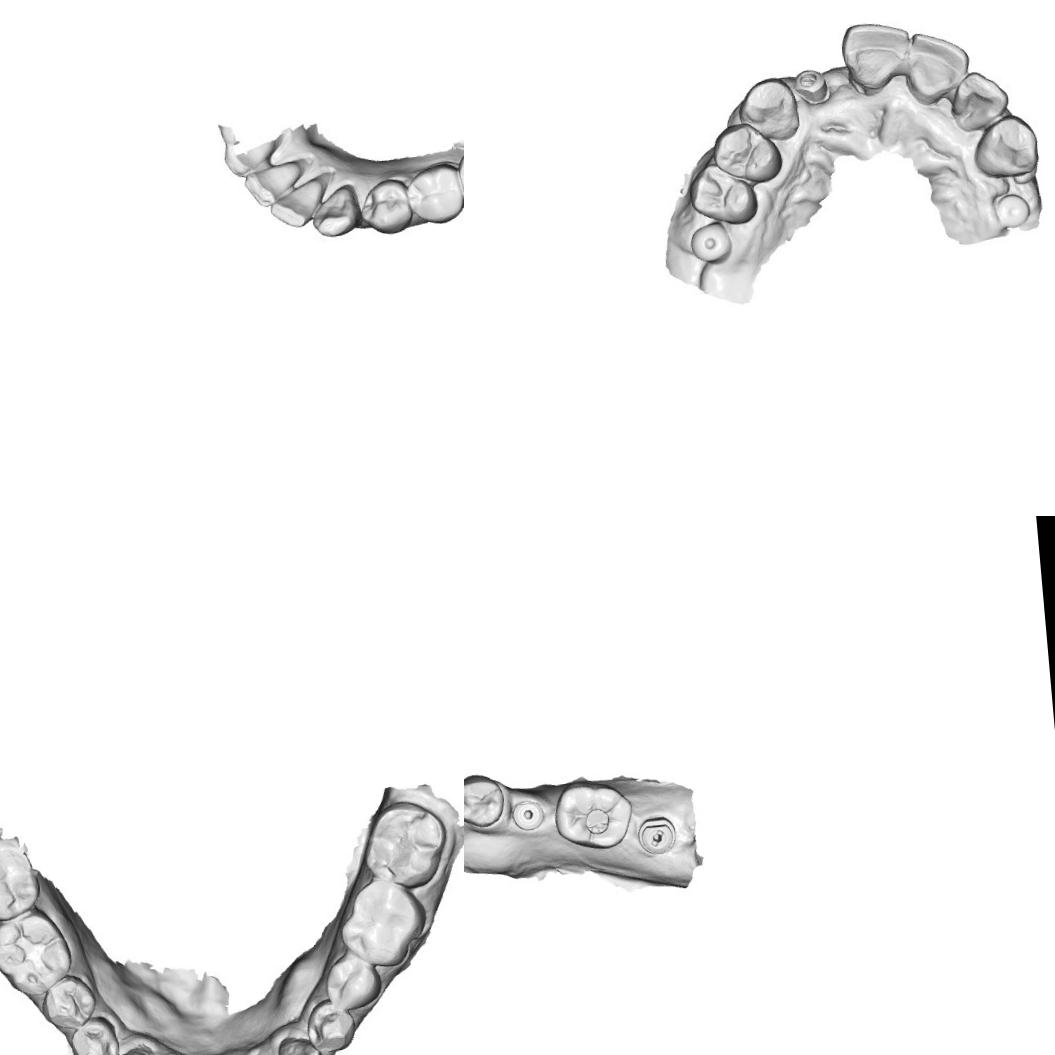canine: (734, 75, 802, 143), (310, 181, 360, 240), (278, 1034, 326, 1055)
implant: (990, 188, 1036, 230), (790, 65, 832, 110), (688, 220, 731, 262), (509, 792, 548, 834)
implant_minus: (636, 810, 676, 857)
incisor: (837, 15, 912, 88), (899, 25, 972, 100), (946, 67, 1013, 132), (272, 175, 328, 232), (244, 158, 304, 208)
molar: (333, 878, 429, 968), (356, 800, 450, 891), (550, 779, 638, 854), (0, 908, 70, 995), (0, 832, 40, 923)
premolar: (708, 120, 784, 188), (682, 158, 758, 225), (974, 115, 1045, 180), (402, 158, 464, 225), (36, 972, 96, 1034), (323, 952, 382, 1011), (362, 178, 412, 236), (464, 771, 509, 831), (306, 999, 355, 1054), (65, 1012, 118, 1055)
